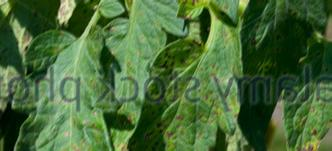Tomato Septoria leaf spot: (123, 4, 251, 151), (6, 19, 115, 151), (100, 0, 178, 132), (0, 0, 66, 143), (284, 31, 332, 151)
